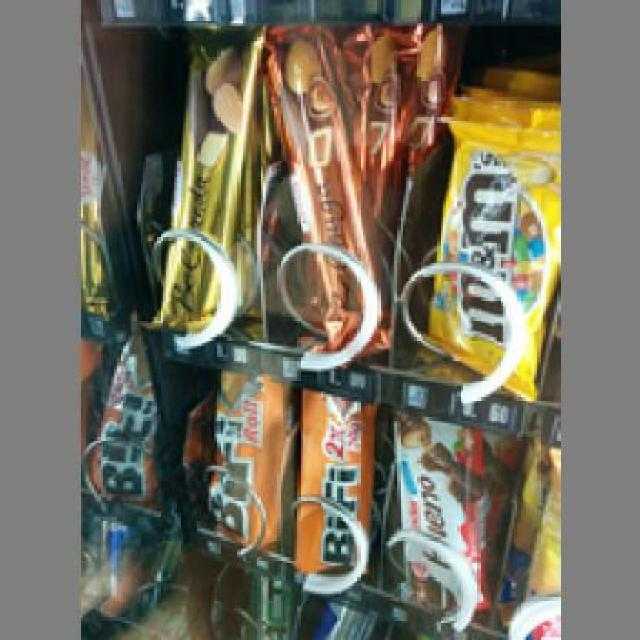Chocolate: (251, 23, 386, 357), (428, 111, 554, 398), (148, 29, 242, 320), (392, 402, 488, 612), (294, 383, 372, 577), (206, 368, 280, 548)
